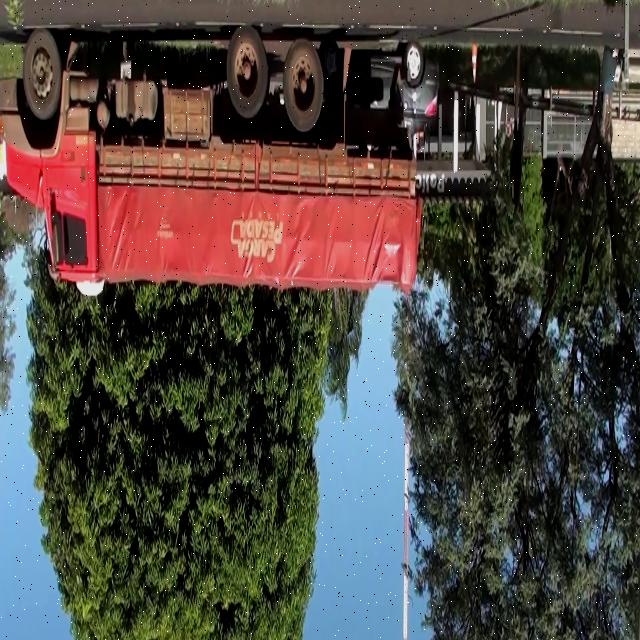-axle: (227, 26, 267, 120), (284, 40, 322, 132), (21, 29, 60, 117)
